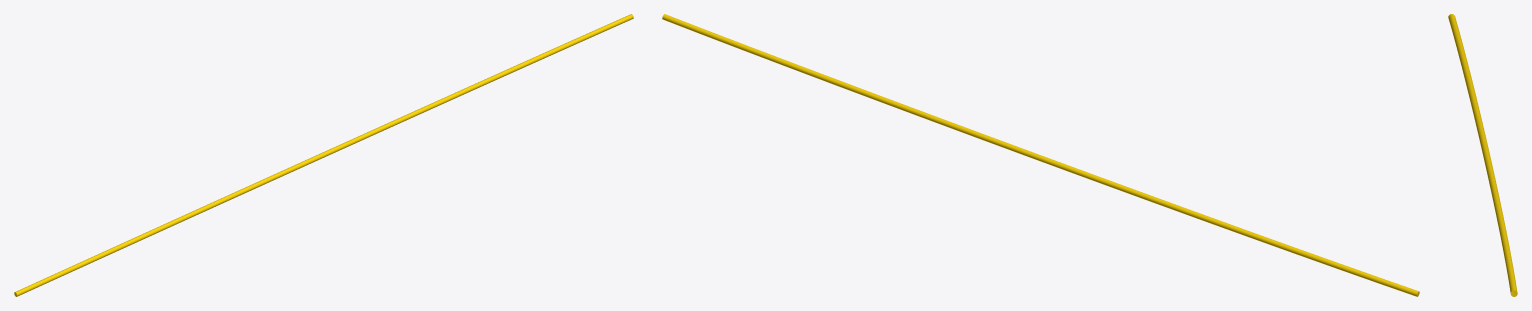
File: Event_420094457_track_28.fbx
3 renders of one model, left to right at view 1: azimuth 30°, elevation 25°; view 2: azimuth 150°, elevation 25°; view 3: azimuth 270°, elevation 25°, orthographic. The views are drawn at different scales.
Visible parts, largest first — view 1: Model; view 2: Model; view 3: Model.
Part boxes in pixels (box(x1,y1,x2,y2)): Model: box(14, 14, 633, 296); Model: box(662, 14, 1419, 296); Model: box(1448, 14, 1517, 296).
Size of the model in its own units: 5.7 by 0.9305 by 0.4003.
